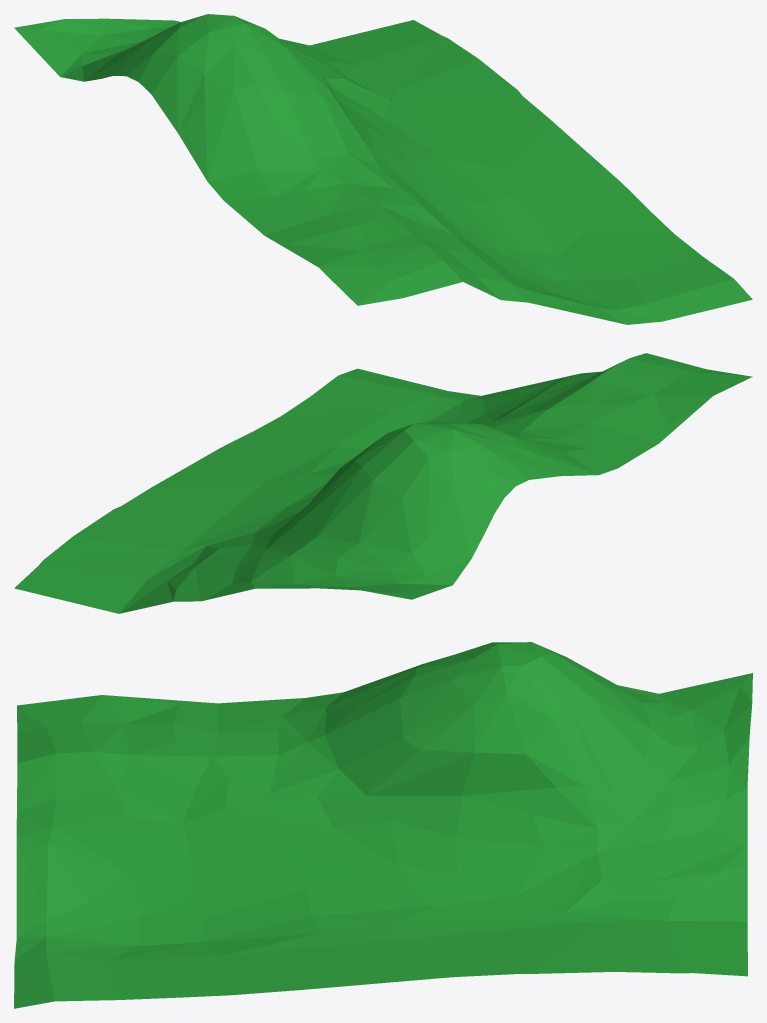
File: Field_R6.fbx
3 views of the same model, one above another, from view 1: azimuth 30°, elevation 25°; view 2: azimuth 150°, elevation 25°; view 3: azimuth 270°, elevation 25° (orthographic). The views are drawn at different scales.
Visible parts, largest first — view 1: R6; view 2: R6; view 3: R6.
Boxes of the visible parts, <box> form: R6: <box>14,14,752,324</box>; R6: <box>14,353,752,613</box>; R6: <box>14,642,752,1008</box>.
Size of the model in its own units: 2445 by 1060 by 3623.
